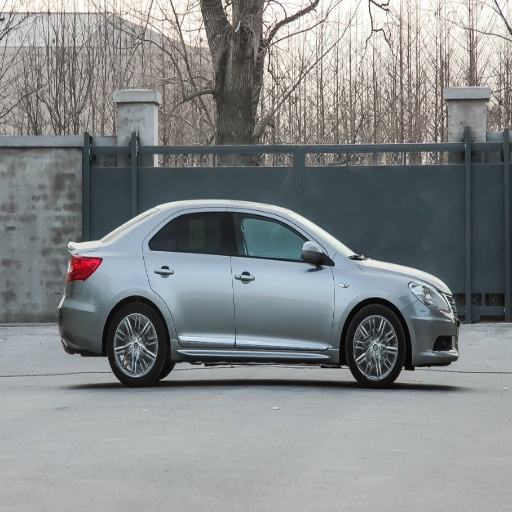back_right_door: (143, 209, 235, 347)
front_right_door: (232, 210, 334, 350)
